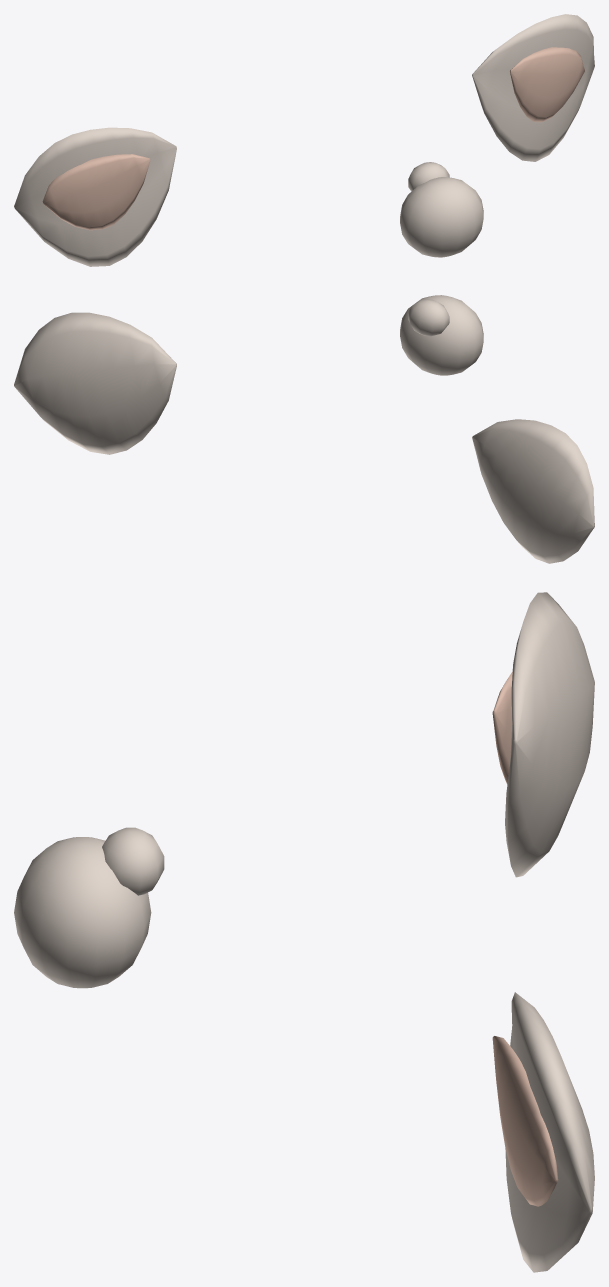
File: race_ears_gnome.glb
3 renders of one model, top to bottom at view 1: azimuth 30°, elevation 25°; view 2: azimuth 150°, elevation 25°; view 3: azimuth 270°, elevation 25°, orthographic. The views are drawn at different scales.
Visible parts, largest first — view 1: race_ears_gnome; view 2: race_ears_gnome; view 3: race_ears_gnome.
Part boxes in pixels (x1,y1,x2,y2): race_ears_gnome: (14,14,594,266); race_ears_gnome: (14,295,594,563); race_ears_gnome: (14,592,594,1272).
Size of the model in its own units: 1.8 by 0.4129 by 0.8462.
